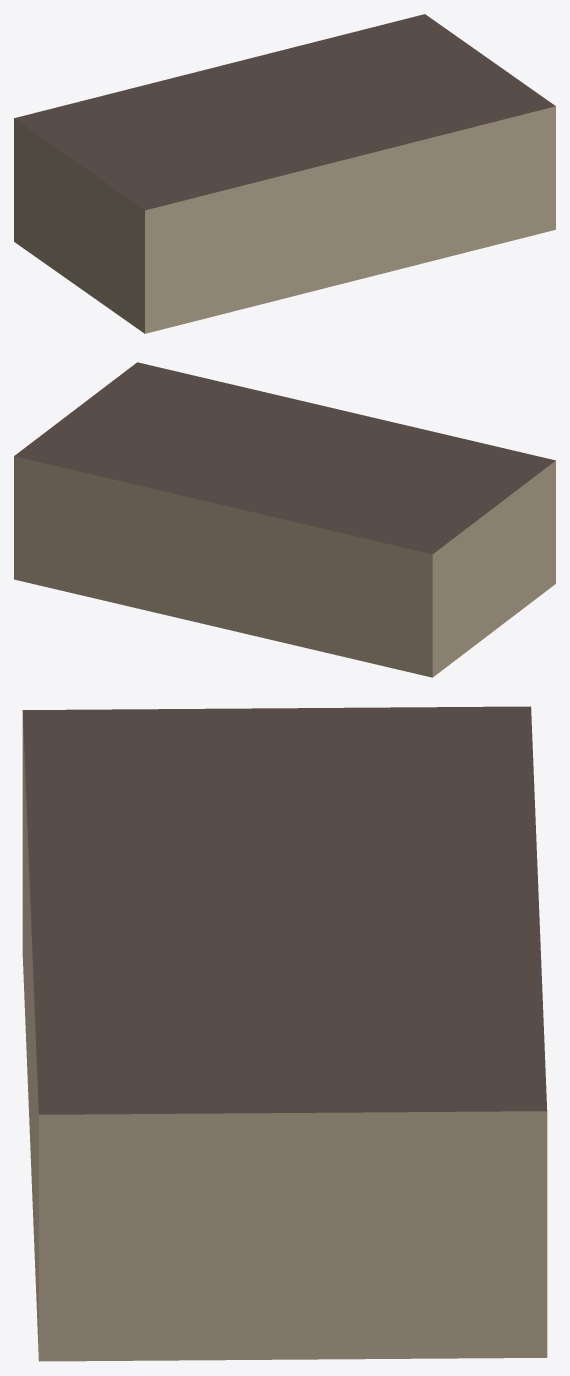
The picture shows the model from 3 angles, top to bottom: view 1: azimuth 30°, elevation 25°; view 2: azimuth 150°, elevation 25°; view 3: azimuth 270°, elevation 25°; orthographic projection. The views are drawn at different scales.
Parts seen in each view (by area): view 1: HP-w859488627; view 2: HP-w859488627; view 3: HP-w859488627.
Part boxes in pixels (bbox=[...]): HP-w859488627: bbox=[14, 14, 555, 333]; HP-w859488627: bbox=[14, 362, 555, 677]; HP-w859488627: bbox=[22, 706, 547, 1361].
Size of the model in its own units: 31.95 by 9 by 17.34.
